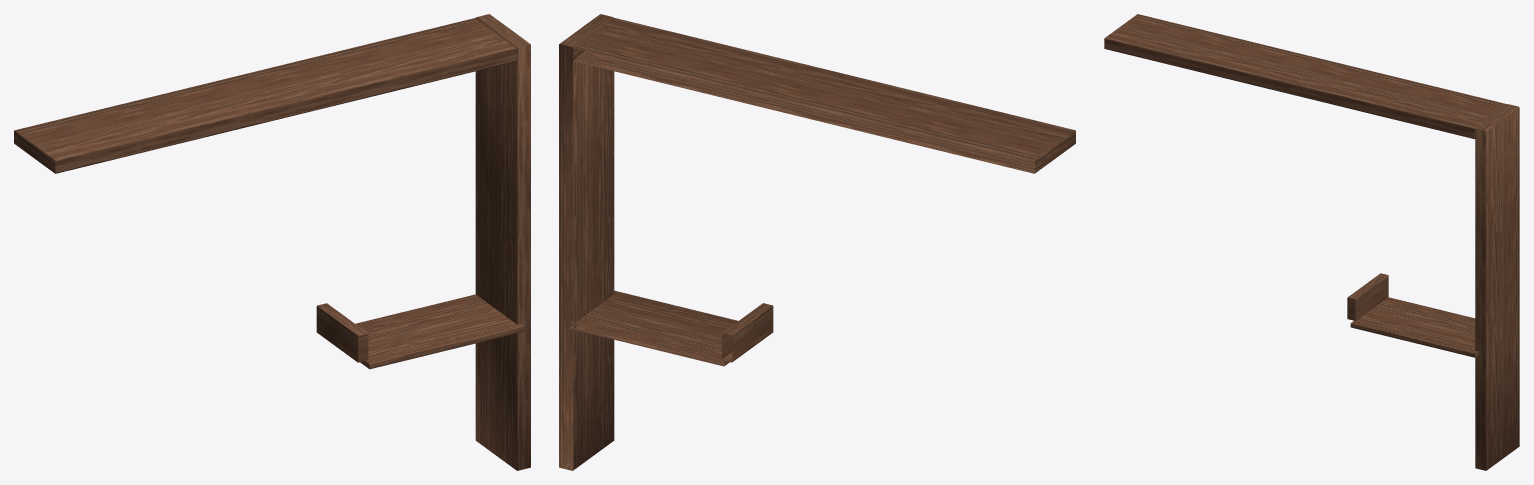
The model's file is casette shelving set.FBX.
3 renders of one model, left to right at view 1: azimuth 30°, elevation 25°; view 2: azimuth 150°, elevation 25°; view 3: azimuth 330°, elevation 25°, orthographic. The views are drawn at different scales.
Visible parts, largest first — view 1: Casette_Shelving_Top left, Casette_Shelving_Top right, Casette_Shelving_Top middle, Casette_Shelving_side middle, Casette_Shelving_Side top, Casette_Shelving_side bottom, Casette_Shelving_shelves, Casette_Shelving_shelve column; view 2: Casette_Shelving_Top left, Casette_Shelving_Top right, Casette_Shelving_Top middle, Casette_Shelving_side middle, Casette_Shelving_side bottom, Casette_Shelving_Side top, Casette_Shelving_shelves, Casette_Shelving_shelve column; view 3: Casette_Shelving_Side top, Casette_Shelving_Top right, Casette_Shelving_Top left, Casette_Shelving_Top middle, Casette_Shelving_side bottom, Casette_Shelving_side middle, Casette_Shelving_shelves, Casette_Shelving_shelve column.
Part boxes in pixels (x1,y1,x2,y2): Casette_Shelving_Top left: (14,93,209,173); Casette_Shelving_Top right: (322,18,516,98); Casette_Shelving_Top middle: (168,55,362,136); Casette_Shelving_side middle: (475,161,530,325); Casette_Shelving_Side top: (475,14,530,191); Casette_Shelving_side bottom: (475,324,530,470); Casette_Shelving_shelves: (355,294,524,369); Casette_Shelving_shelve column: (316,303,368,362); Casette_Shelving_Top left: (881,93,1075,173); Casette_Shelving_Top right: (573,18,767,98); Casette_Shelving_Top middle: (727,55,921,136); Casette_Shelving_side middle: (559,161,614,326); Casette_Shelving_side bottom: (559,313,614,470); Casette_Shelving_Side top: (559,14,614,190); Casette_Shelving_shelves: (568,290,737,366); Casette_Shelving_shelve column: (722,303,773,362); Casette_Shelving_Side top: (1475,104,1519,246); Casette_Shelving_Top right: (1351,74,1507,139); Casette_Shelving_Top left: (1104,14,1260,78); Casette_Shelving_Top middle: (1228,44,1383,108); Casette_Shelving_side bottom: (1475,331,1519,470); Casette_Shelving_side middle: (1475,222,1519,355); Casette_Shelving_shelves: (1350,297,1478,357); Casette_Shelving_shelve column: (1347,273,1388,320).
Size of the model in its own units: 36.69 by 31.21 by 6.
Materials: 1 (1 with a texture image).
